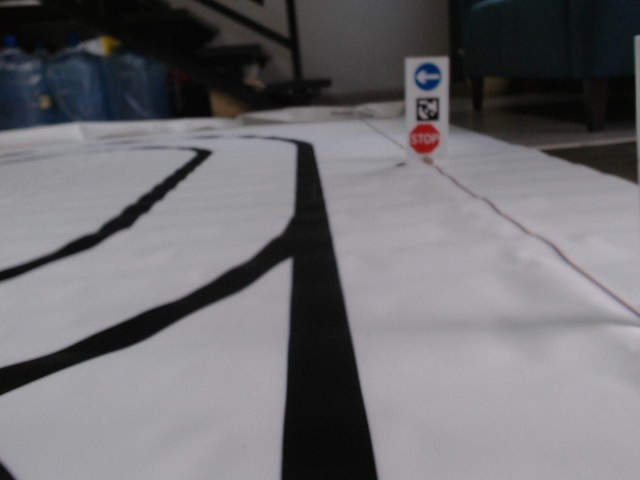Stop: (409, 123, 441, 154)
